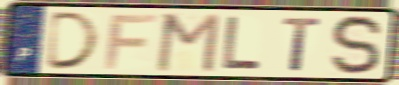D: (43, 10, 103, 71)
F: (102, 13, 160, 71)
L: (220, 15, 263, 73)
M: (153, 12, 223, 75)
S: (329, 13, 385, 78)
T: (281, 16, 324, 73)
